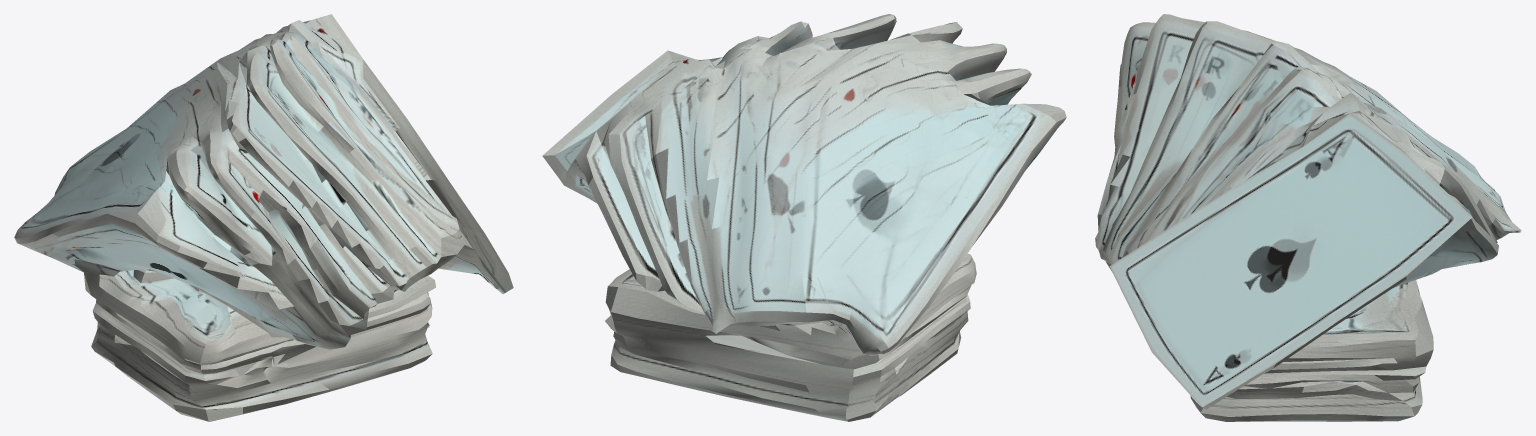
The model's file is playing_cards.glb.
3 views of the same model, side by side, from view 1: azimuth 30°, elevation 25°; view 2: azimuth 150°, elevation 25°; view 3: azimuth 270°, elevation 25° (orthographic).
Visible parts, largest first — view 1: Mesh_0; view 2: Mesh_0; view 3: Mesh_0.
Boxes of the visible parts, box(x1,y1,x2,y2) form: Mesh_0: box(14, 14, 513, 421); Mesh_0: box(542, 14, 1066, 421); Mesh_0: box(1095, 14, 1521, 421).
Bounding box in the file's own units: 1.88 × 1.47 × 1.75.
1 material, 1 textured.
